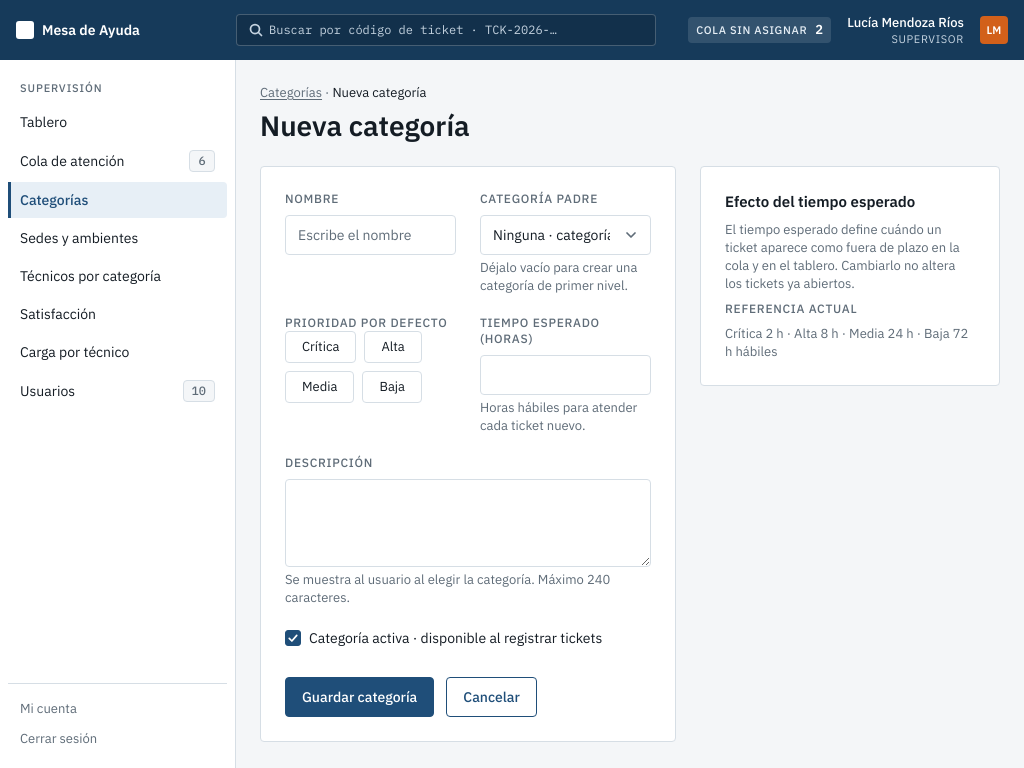
it: CategoriaFormPage · nueva › crea una categoría principal y vuelve al catálogo con el aviso
Check: the heading "Nueva categoría" is shown, box [260, 110, 470, 142]
Check: the text "Cola sin asignar" is shown, box [696, 22, 807, 38]
In the field labelled "Nombre": [370, 235] box [285, 215, 456, 255], type "Señalética"
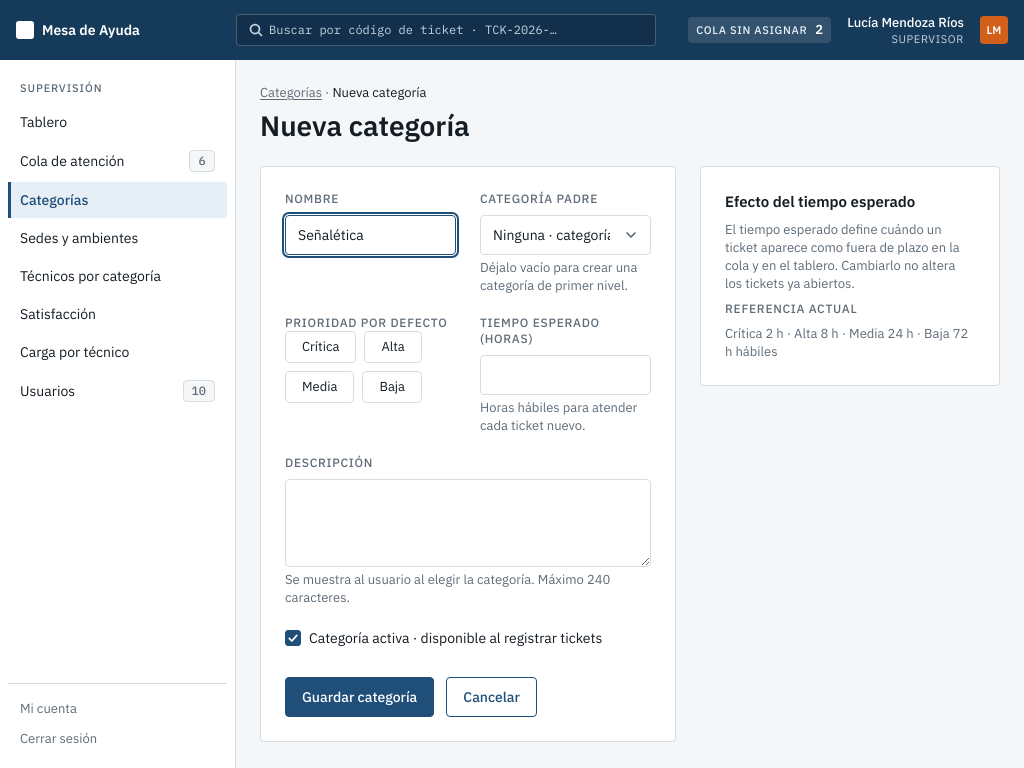
Click the radio button labelled "Baja": [392, 387] box [362, 371, 422, 403]
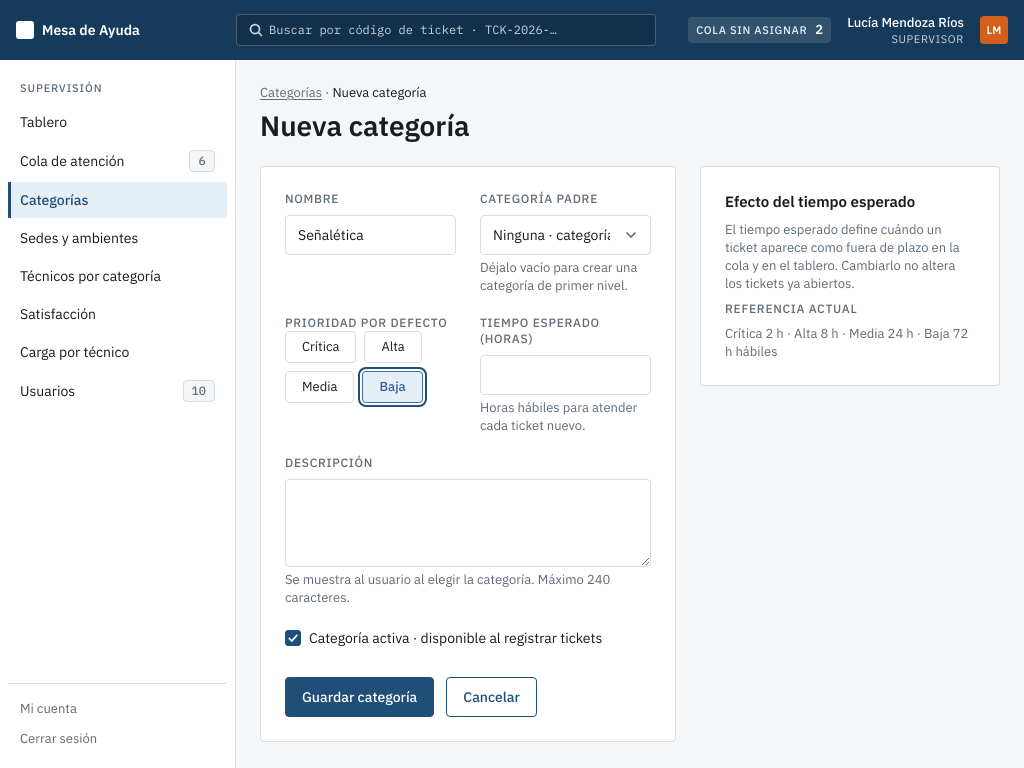
In the field labelled "Tiempo esperado (horas)": [566, 375] box [480, 355, 651, 395], type "48"
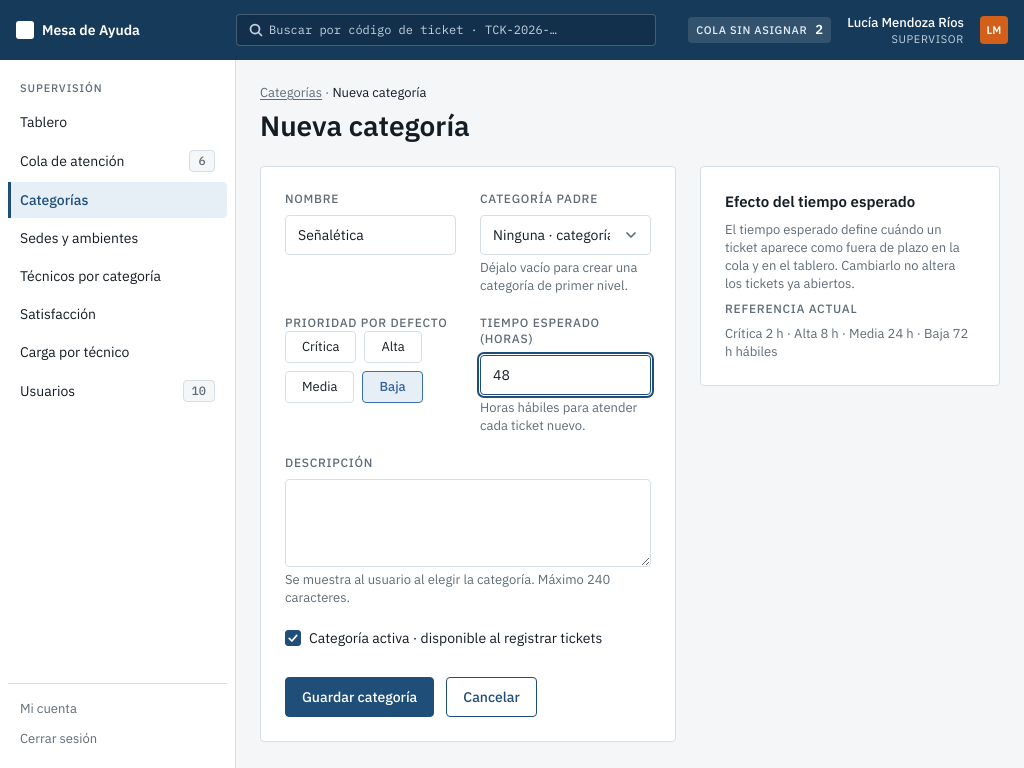
In the text box labelled "Descripción": [468, 523] box [285, 479, 651, 567], type "Letreros dañados."
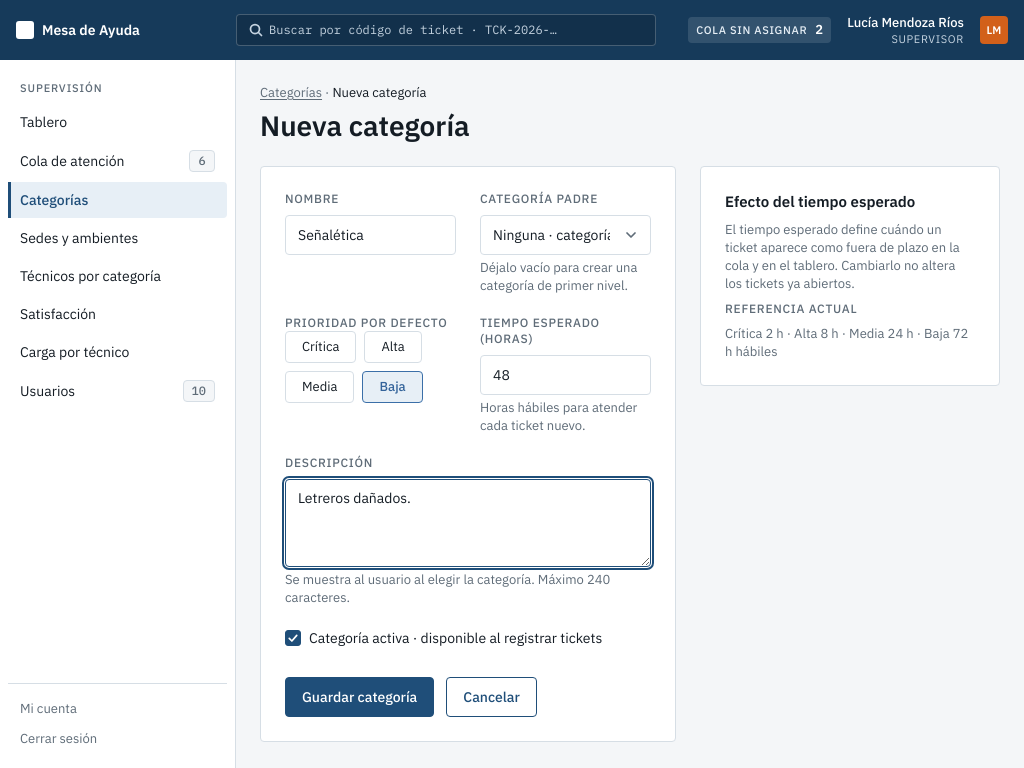
Click the button "Guardar categoría": [360, 697] box [285, 677, 434, 717]
(page scrolled)
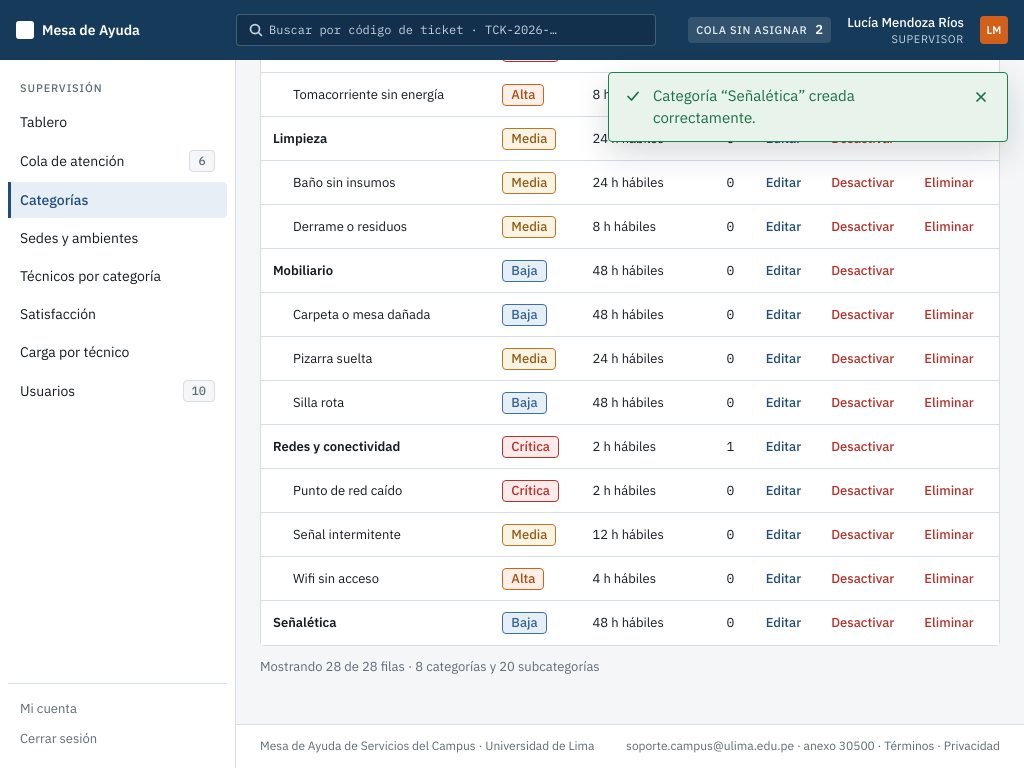
Check: the text "Categoría “Señalética” creada correctamente." is shown, box [652, 85, 855, 127]
Check: the column heading "Señalética" is shown, box [261, 600, 490, 644]
